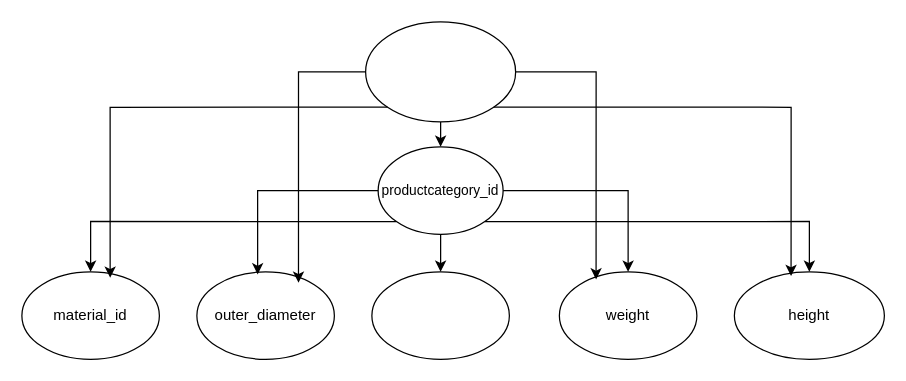
This 906x381 diagram has some shape labels left out. The shapes that lost their labels are listed below. From the top down, each one's box as (x1, y1, x2, y2) in pixels, then its label:
(364, 21, 516, 122): product_id
(371, 271, 509, 359): inner_diameter
